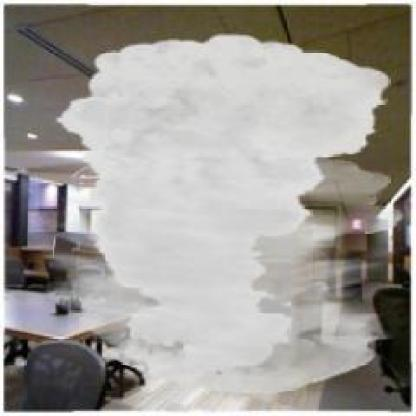Smoke: (41, 33, 403, 393)
